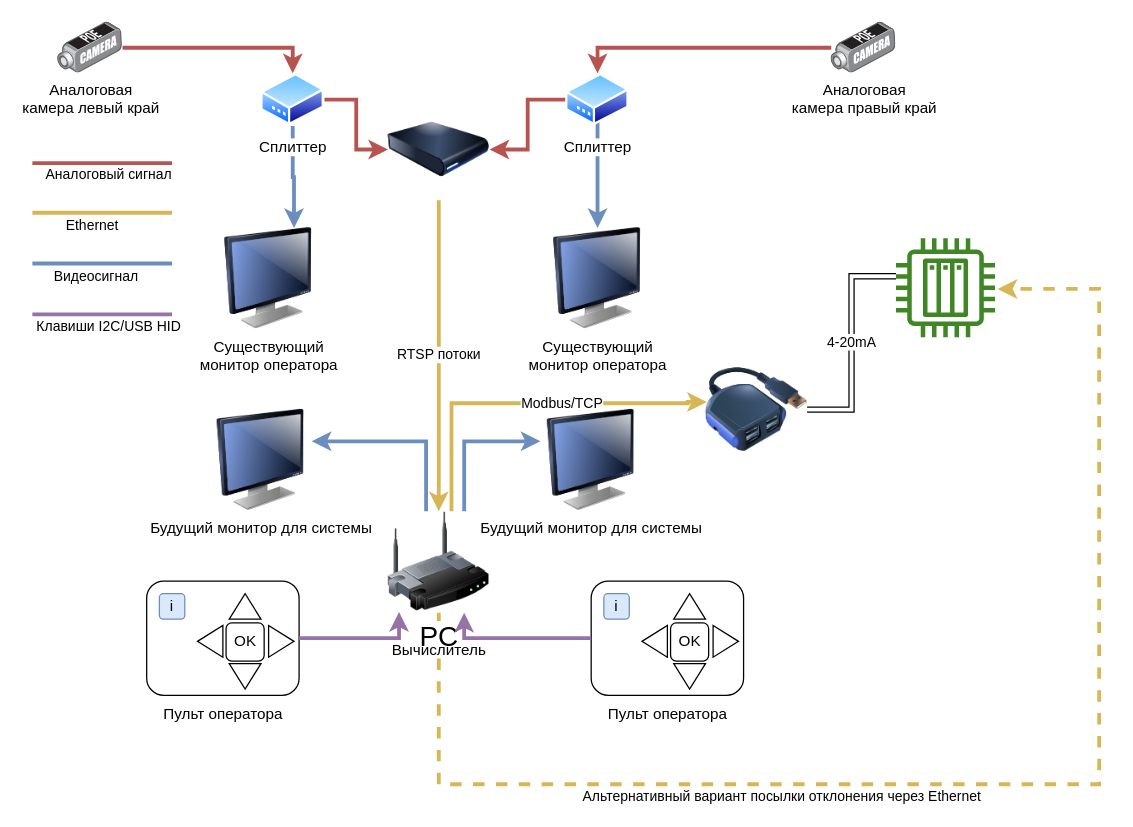
Some shapes in this 1133 by 827 pixel diagram are drawn without their labels. The box of each missing label's shape, as (x1, y1, x2, y2) in pixels:
ET-7204 Преобразователь Ethernet->4-20: (705, 358, 806, 460)
Siemens: (895, 237, 994, 337)
Видеорегистратор -преобразователь: (387, 98, 489, 200)
